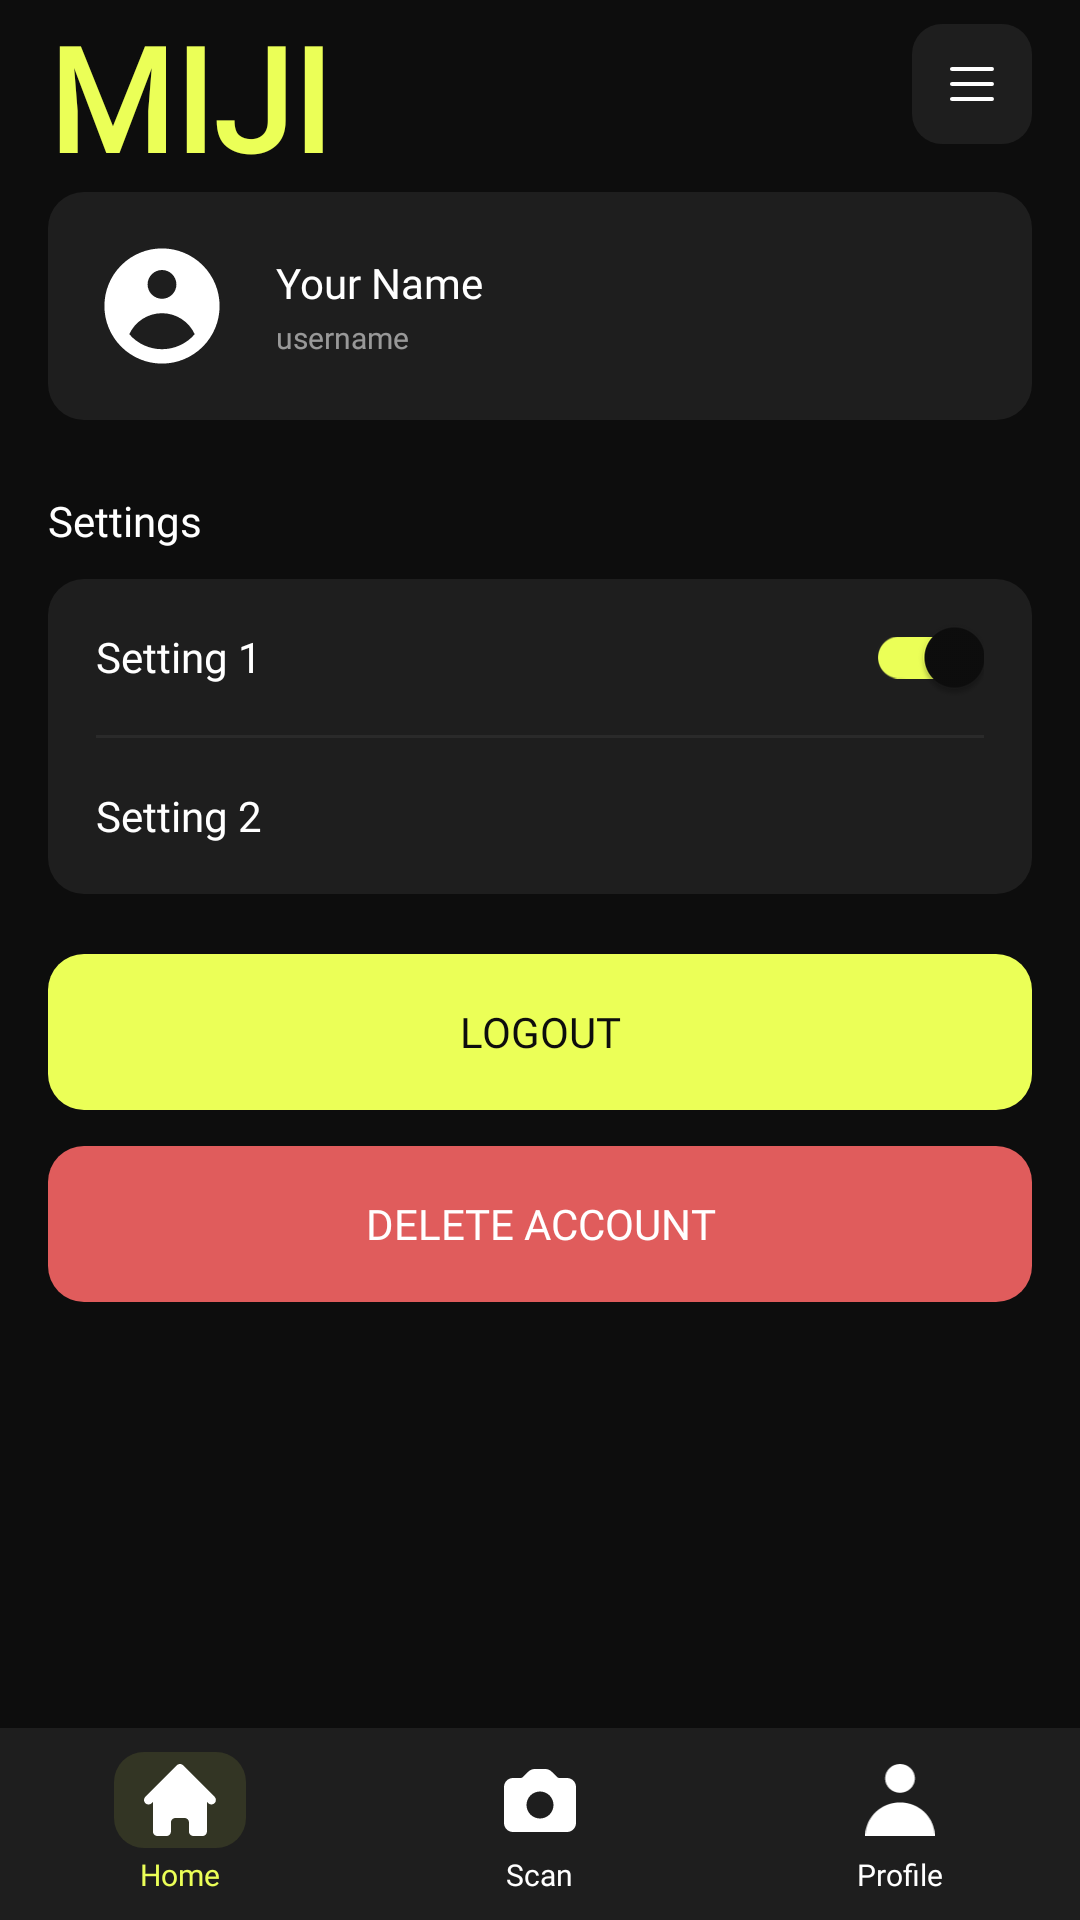

Locate icon controls on the screen. Image size 1080×1920, boxes as [x1, y1, x2, y2].
Avatar: [104, 248, 220, 364]
Menu: [912, 24, 1032, 144]
